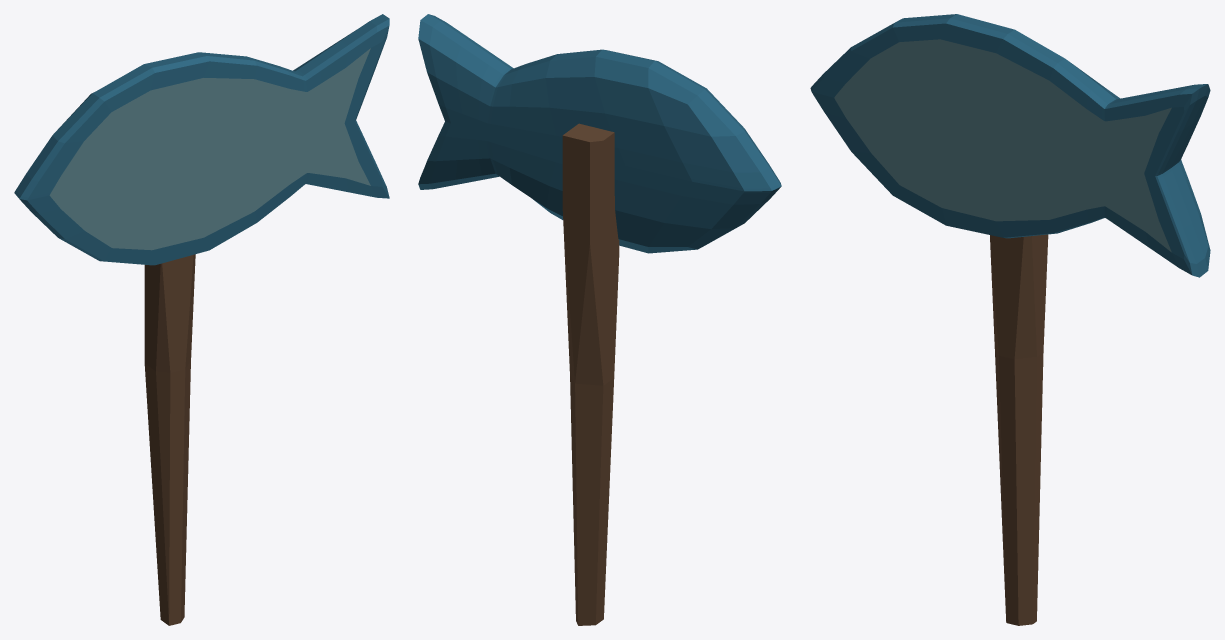
Rendered from sign.fbx.
3 renders of one model, left to right at view 1: azimuth 30°, elevation 25°; view 2: azimuth 150°, elevation 25°; view 3: azimuth 330°, elevation 25°, orthographic. The views are drawn at different scales.
Parts seen in each view (by area): view 1: Cube; view 2: Cube; view 3: Cube.
Boxes of the visible parts, left/top/right/bottom form: Cube: left=14, top=14, right=389, bottom=625; Cube: left=418, top=14, right=781, bottom=625; Cube: left=810, top=14, right=1210, bottom=625.
Bounding box in the file's own units: 151 × 226 × 28.06.
